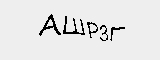А: (42, 15, 61, 35)
Г: (109, 24, 127, 44)
З: (99, 24, 110, 44)
Р: (87, 21, 96, 40)
Ш: (64, 16, 84, 38)
